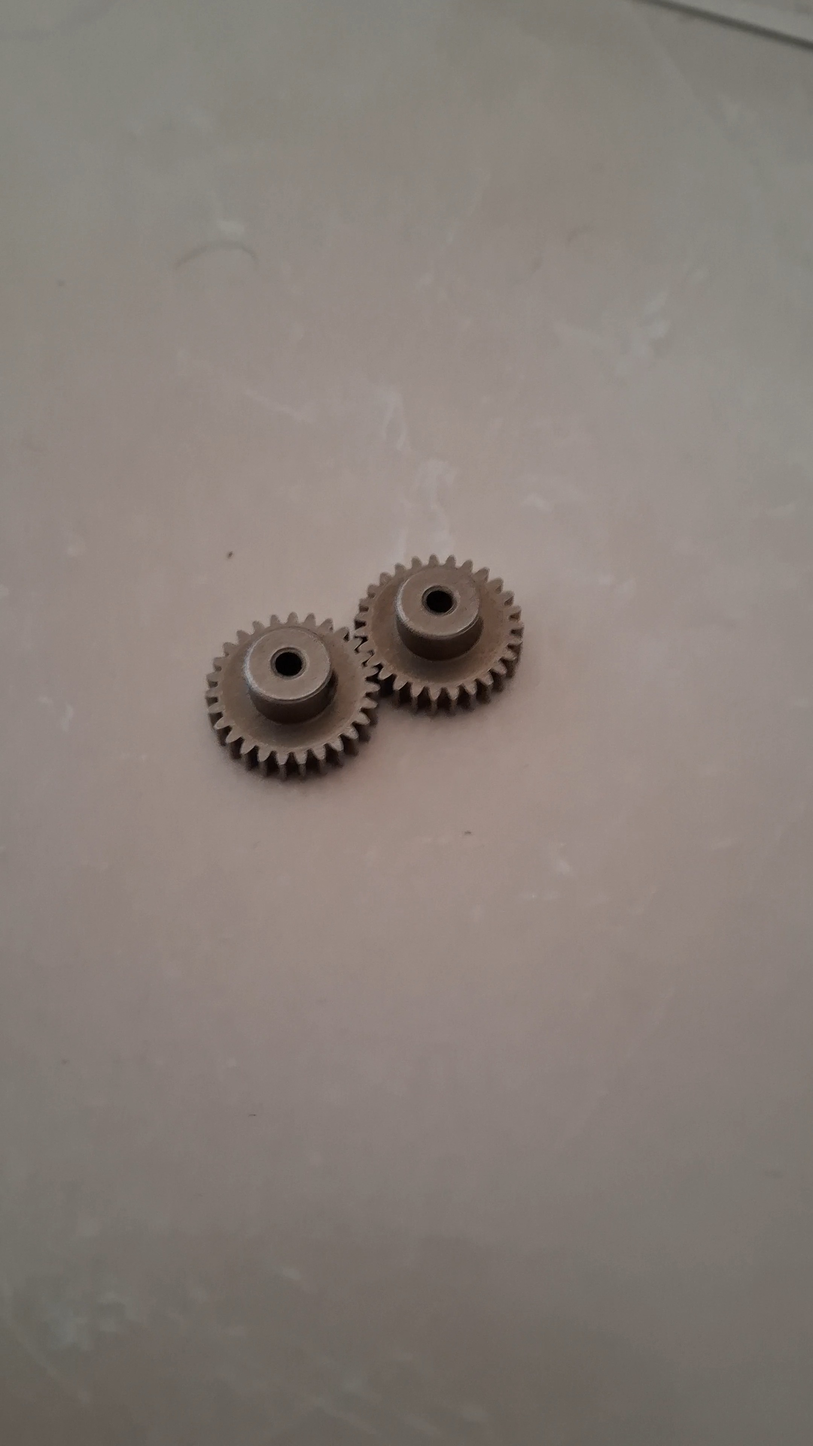spur gear: (198, 640, 366, 799), (347, 586, 509, 741)
